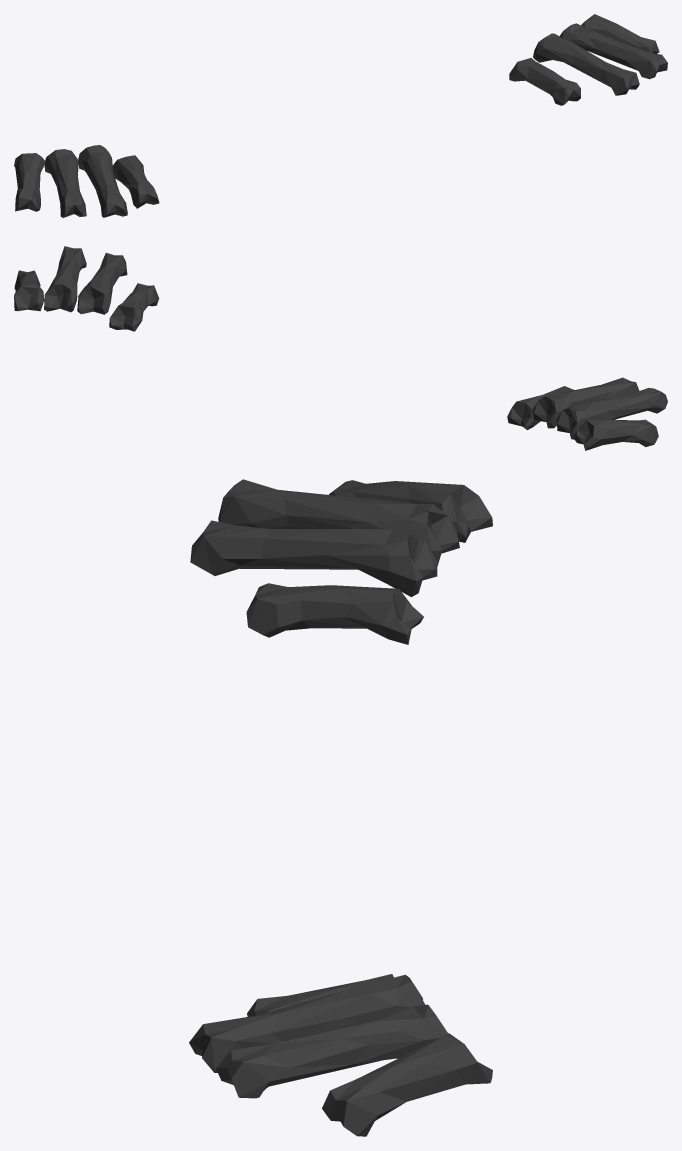
3 views of the same model, one above another, from view 1: azimuth 30°, elevation 25°; view 2: azimuth 150°, elevation 25°; view 3: azimuth 270°, elevation 25° (orthographic). The views are drawn at different scales.
Visible parts, largest first — view 1: HL_P1; view 2: HL_P1; view 3: HL_P1.
Boxes of the visible parts, <box> form: HL_P1: <box>14,14,667,217</box>; HL_P1: <box>14,246,667,450</box>; HL_P1: <box>189,479,492,1136</box>.
Size of the model in its own units: 0.00692 by 0.000414 by 0.00142.
Materials: 1 (1 with a texture image).
